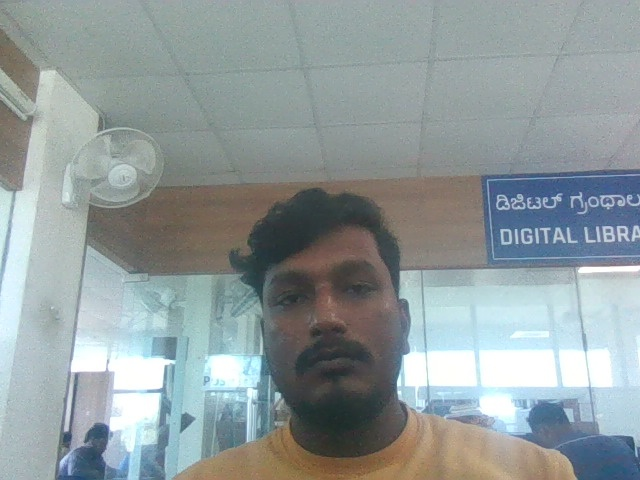real: (245, 173, 423, 426)
